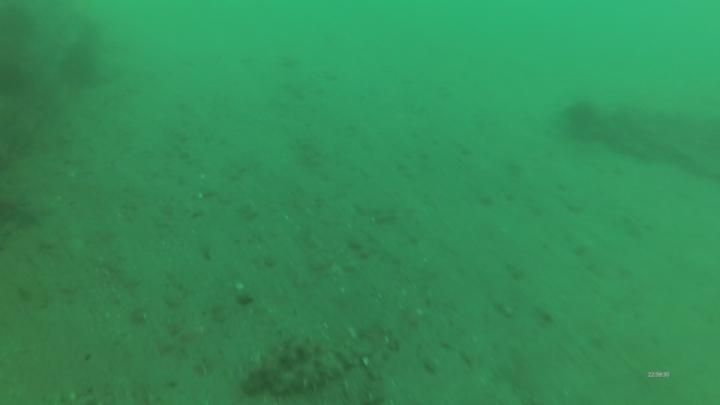holothurian: (275, 342, 367, 394), (244, 335, 315, 395)
